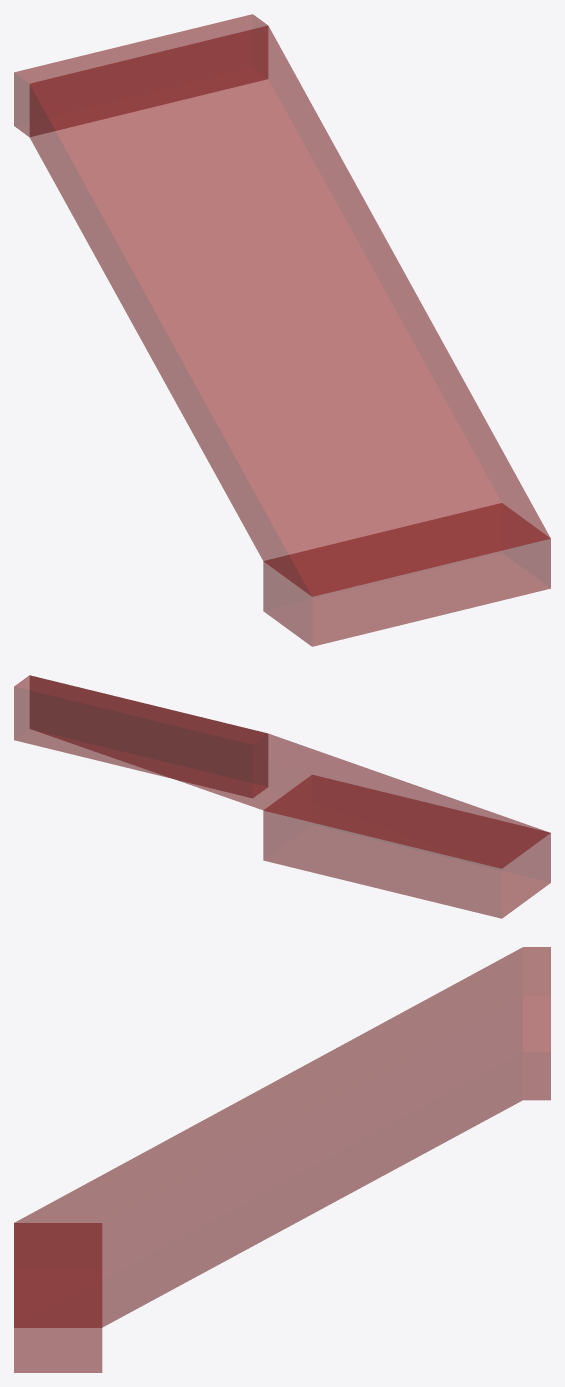
The model's file is SM_Prop_Walkway_Stairs_01_Collision.fbx.
The picture shows the model from 3 angles, top to bottom: view 1: azimuth 30°, elevation 25°; view 2: azimuth 150°, elevation 25°; view 3: azimuth 270°, elevation 25°; orthographic projection. The views are drawn at different scales.
Parts seen in each view (by area): view 1: SM_Prop_Walkway_Stairs_01_Collision; view 2: SM_Prop_Walkway_Stairs_01_Collision; view 3: SM_Prop_Walkway_Stairs_01_Collision.
Part boxes in pixels (<box>): SM_Prop_Walkway_Stairs_01_Collision: <box>14,14,550,646</box>; SM_Prop_Walkway_Stairs_01_Collision: <box>14,675,550,918</box>; SM_Prop_Walkway_Stairs_01_Collision: <box>14,947,550,1372</box>.
Bounding box in the file's own units: 125 × 178 × 270.
